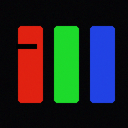3 line_h: (16, 44, 36, 48)
